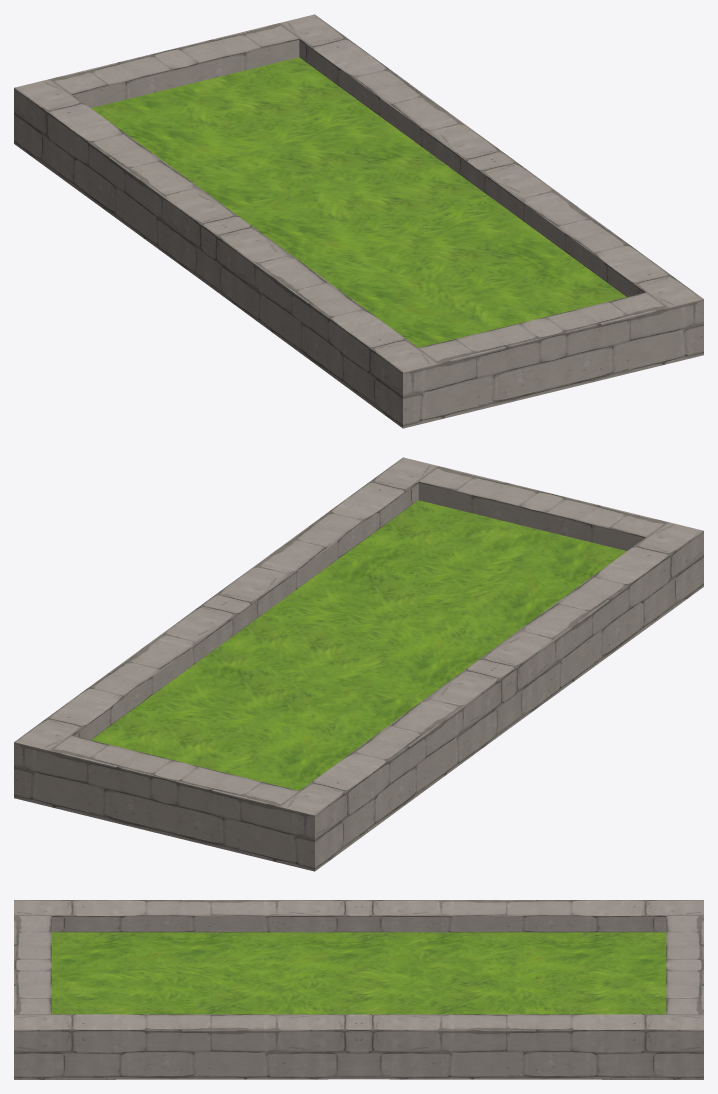
The model's file is Plaza_C.fbx.
3 views of the same model, one above another, from view 1: azimuth 30°, elevation 25°; view 2: azimuth 150°, elevation 25°; view 3: azimuth 270°, elevation 25° (orthographic). The views are drawn at different scales.
Parts seen in each view (by area): view 1: Plaza_C; view 2: Plaza_C; view 3: Plaza_C.
Part boxes in pixels (bbox=[...]): Plaza_C: bbox=[14, 14, 703, 428]; Plaza_C: bbox=[14, 457, 703, 871]; Plaza_C: bbox=[14, 900, 703, 1079].
Bounding box in the file's own units: 302 × 53.79 × 677.
Materials: 2 (2 with a texture image).
